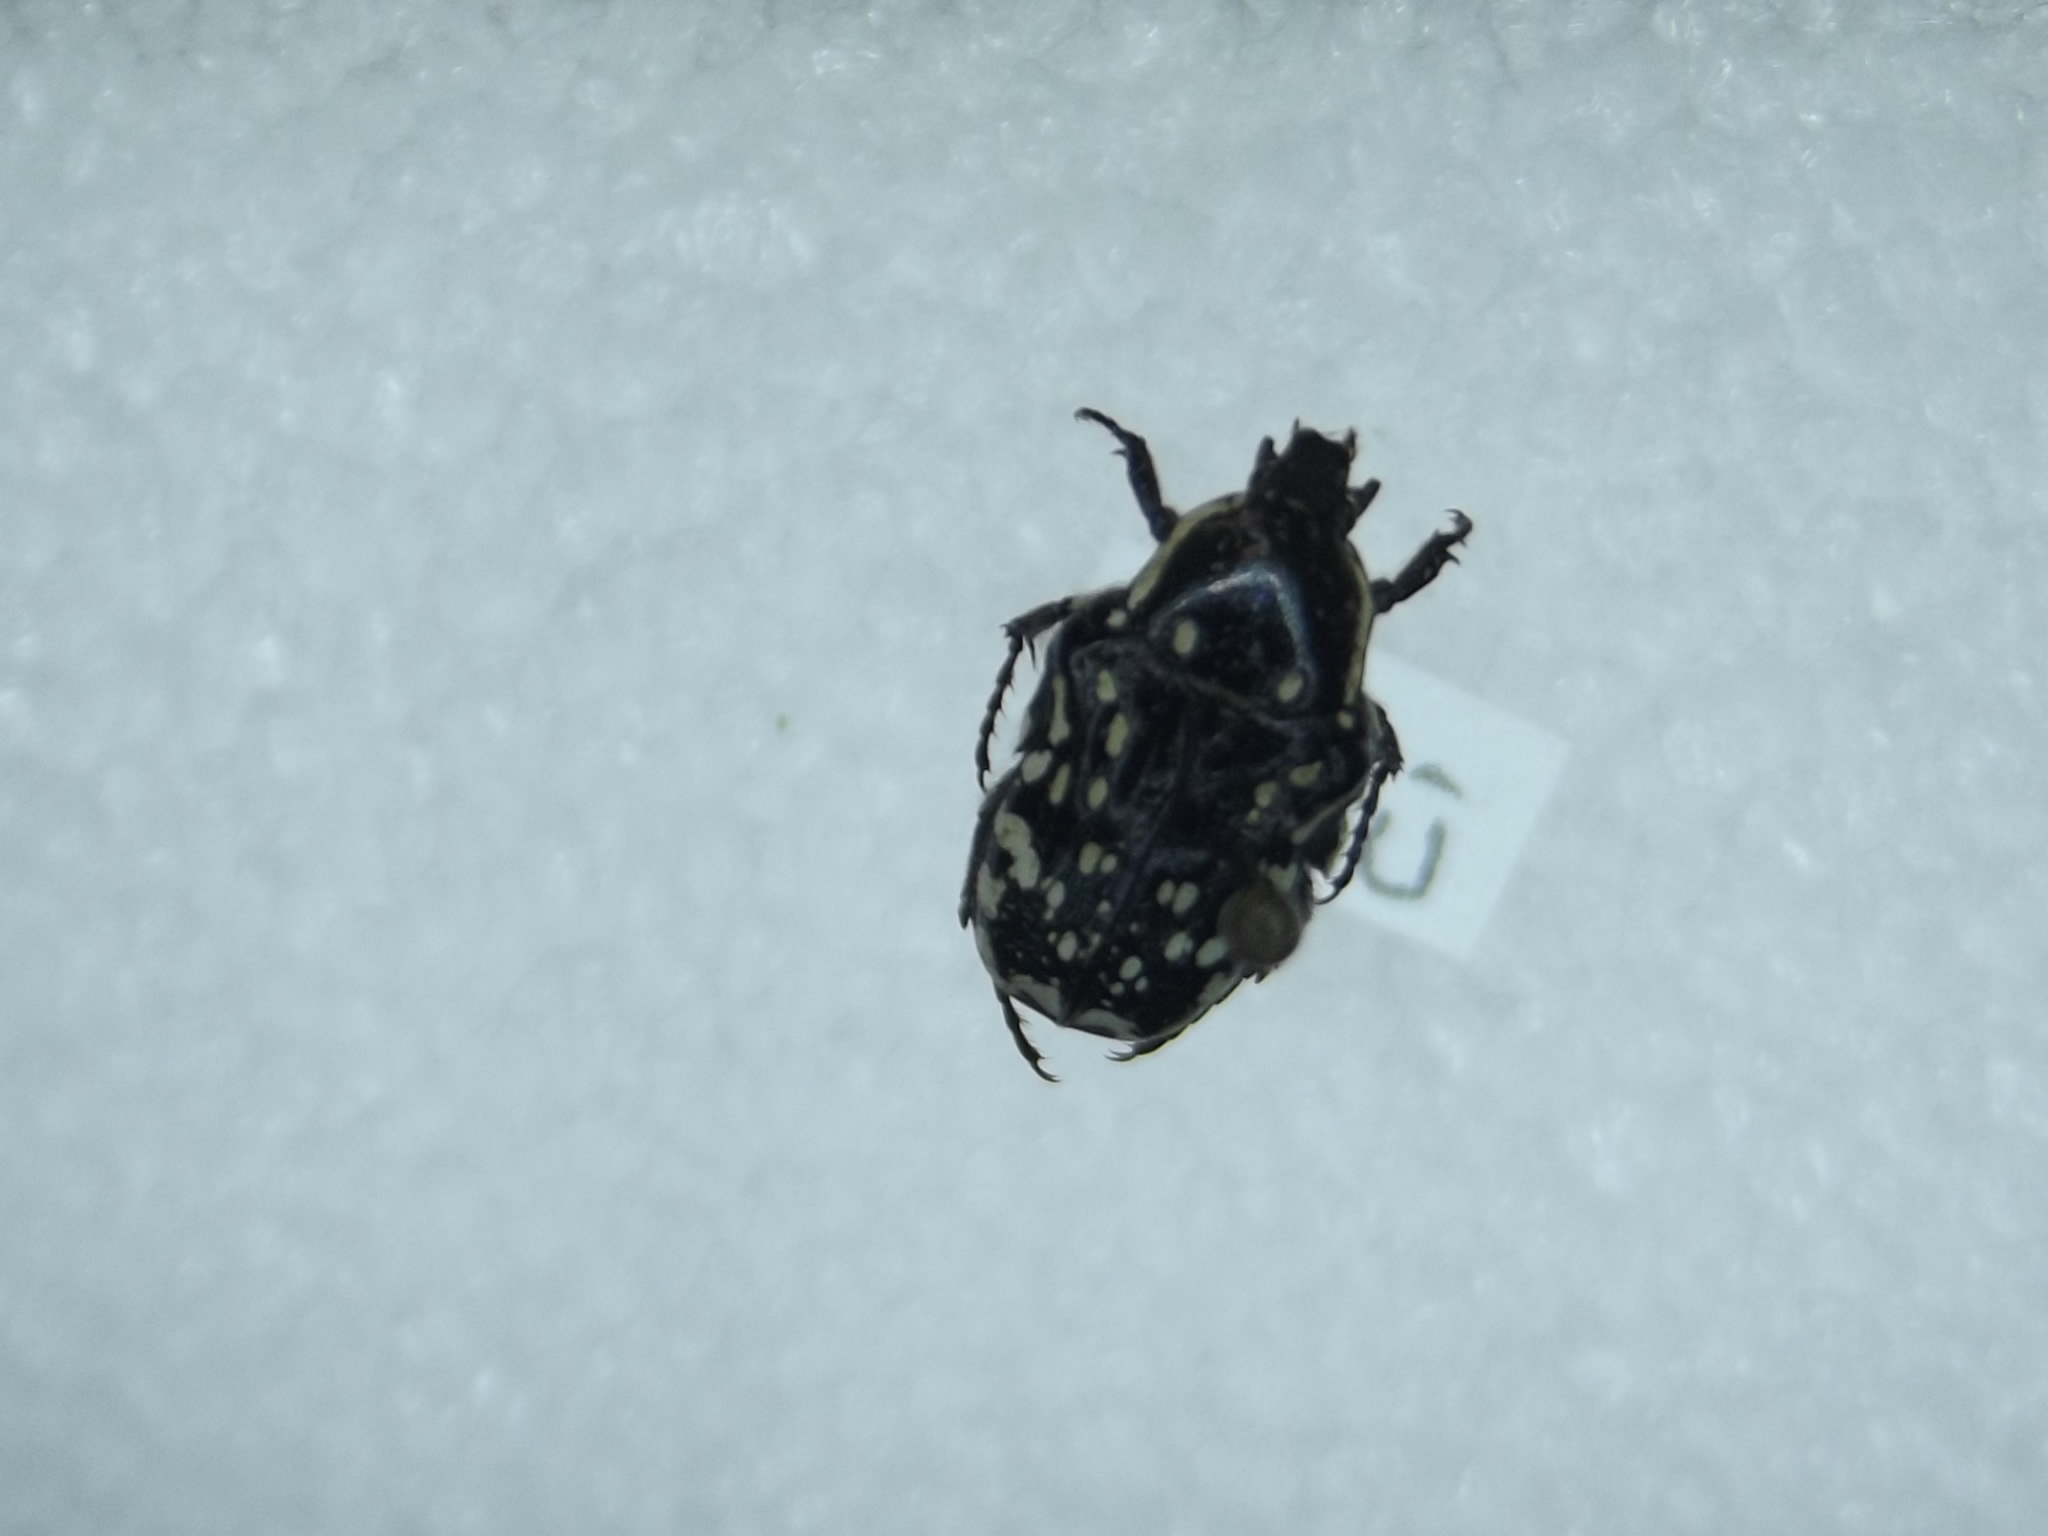Oxythyrea_funesta: (953, 382, 1484, 1115)
